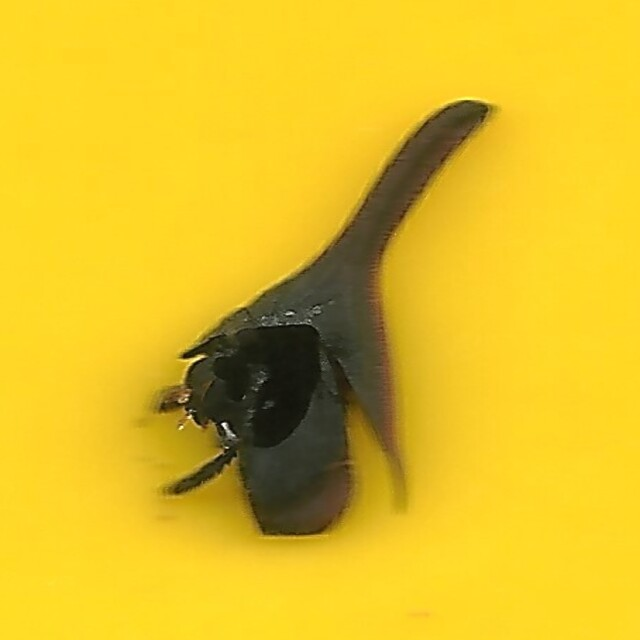Hemiptera: (141, 99, 499, 541)
